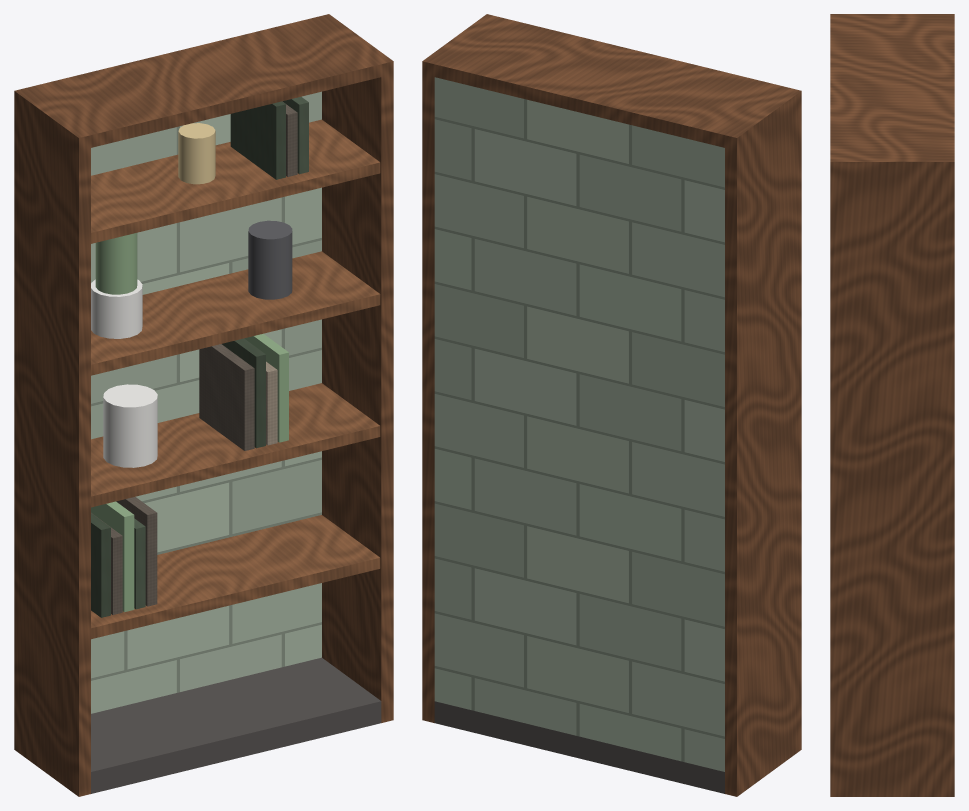
The model's file is shelf_petra.glb.
3 views of the same model, side by side, from view 1: azimuth 30°, elevation 25°; view 2: azimuth 150°, elevation 25°; view 3: azimuth 270°, elevation 25° (orthographic). The views are drawn at different scales.
Parts seen in each view (by area): view 1: Shelf_Petra; view 2: Shelf_Petra; view 3: Shelf_Petra.
Boxes of the visible parts, bbox=[...] form: Shelf_Petra: bbox=[14, 14, 393, 796]; Shelf_Petra: bbox=[422, 14, 801, 796]; Shelf_Petra: bbox=[830, 14, 954, 796].
Size of the model in its own units: 0.9 by 1.8 by 0.32.
12 materials, 7 textured.
